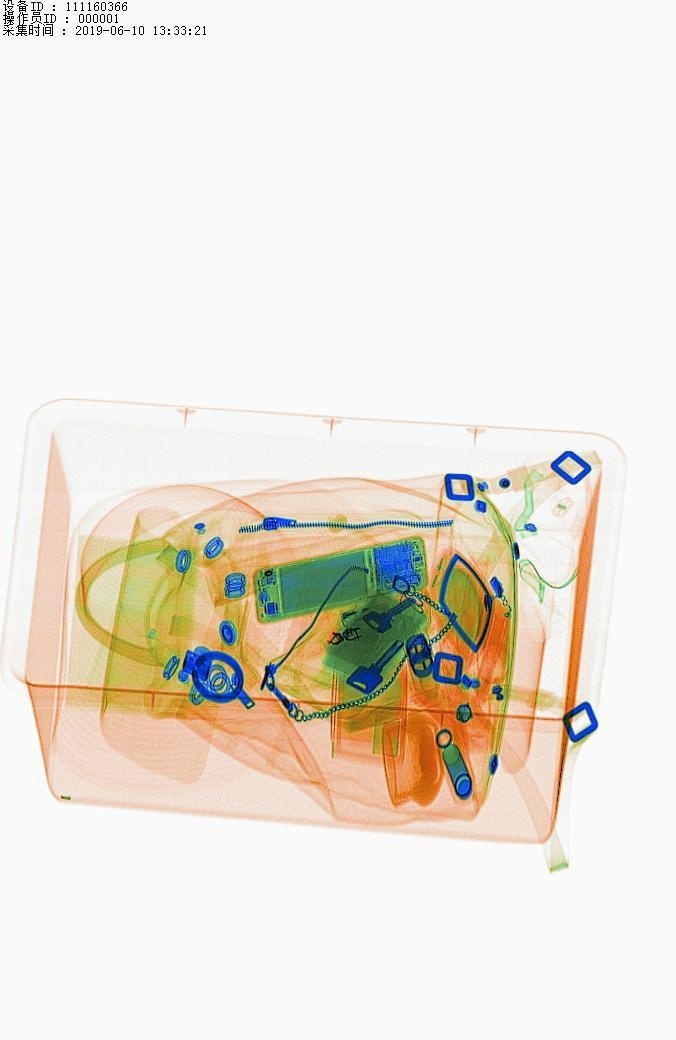NonmetallicFire: (333, 583, 429, 635)
